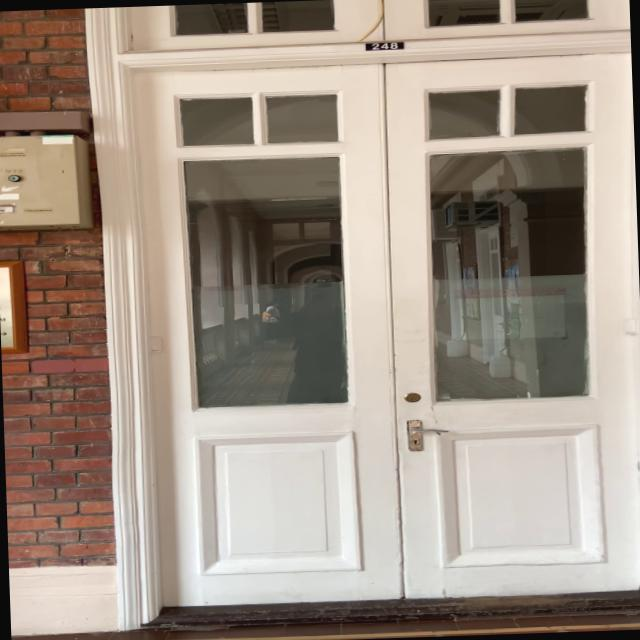room248: (360, 37, 410, 54)
